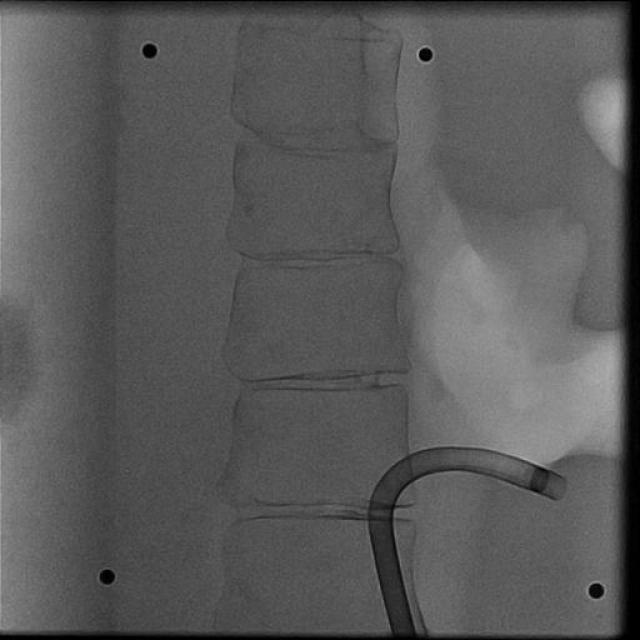bend: (367, 501, 392, 523)
entry: (392, 629, 417, 636)
marker: (530, 468, 550, 493)
tip: (552, 479, 568, 499)
